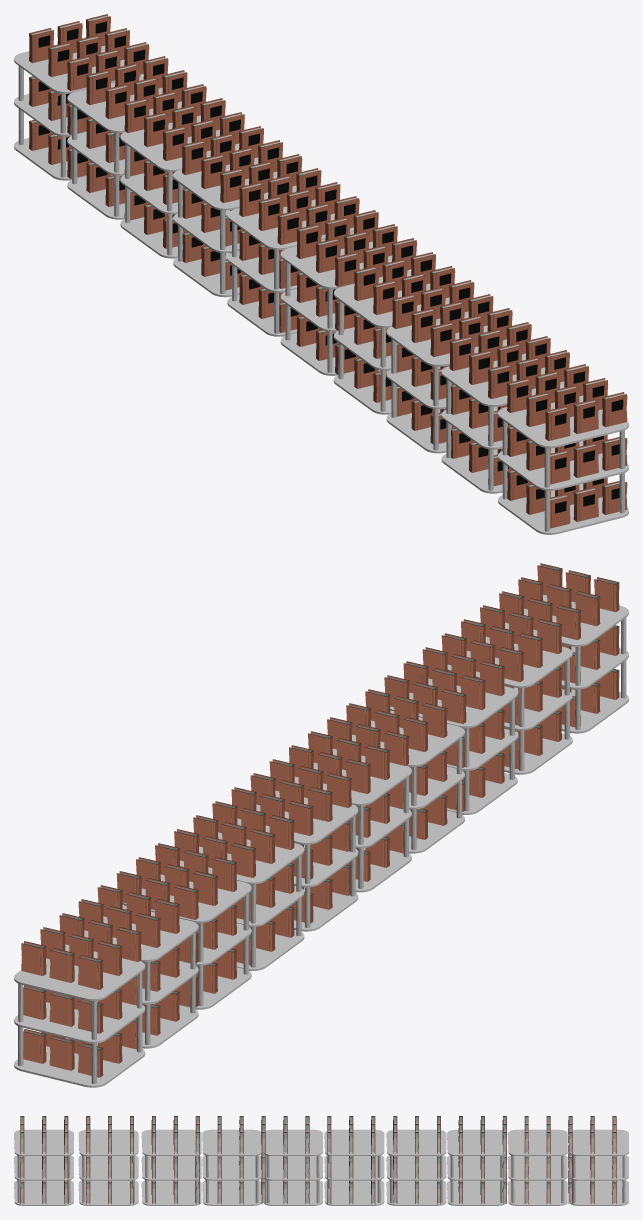
The model's file is EstanteLibro.obj.
3 views of the same model, one above another, from view 1: azimuth 30°, elevation 25°; view 2: azimuth 150°, elevation 25°; view 3: azimuth 270°, elevation 25° (orthographic). The views are drawn at different scales.
Parts seen in each view (by area): view 1: libro, Estantes; view 2: libro, Estantes; view 3: Estantes, libro.
Part boxes in pixels (box(x1,y1,x2,y2)): libro: box(29, 14, 627, 528); Estantes: box(14, 37, 628, 534); libro: box(21, 563, 619, 1077); Estantes: box(14, 594, 628, 1087); Estantes: box(14, 1129, 628, 1205); libro: box(20, 1116, 616, 1204).
Size of the model in its own units: 2 by 2.47 by 20.53.
